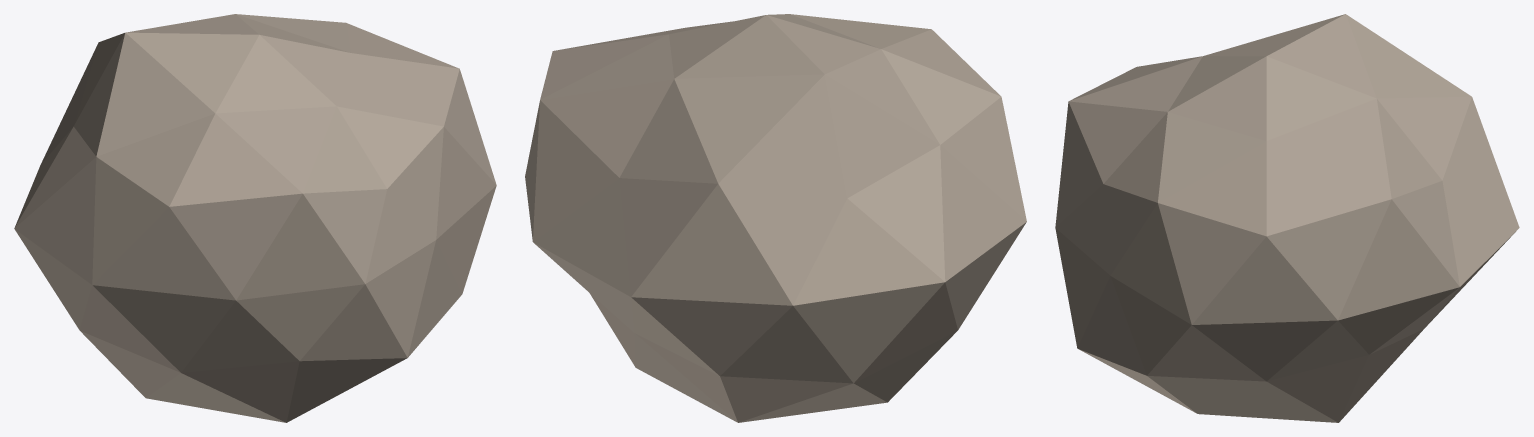
File: piatra.fbx
3 renders of one model, left to right at view 1: azimuth 30°, elevation 25°; view 2: azimuth 150°, elevation 25°; view 3: azimuth 270°, elevation 25°, orthographic. The views are drawn at different scales.
Visible parts, largest first — view 1: Piatra; view 2: Piatra; view 3: Piatra.
Part boxes in pixels (bbox=[...]): Piatra: bbox=[14, 14, 496, 422]; Piatra: bbox=[525, 14, 1026, 422]; Piatra: bbox=[1055, 14, 1519, 422].
Size of the model in its own units: 0.5216 by 0.4113 by 0.5167.
